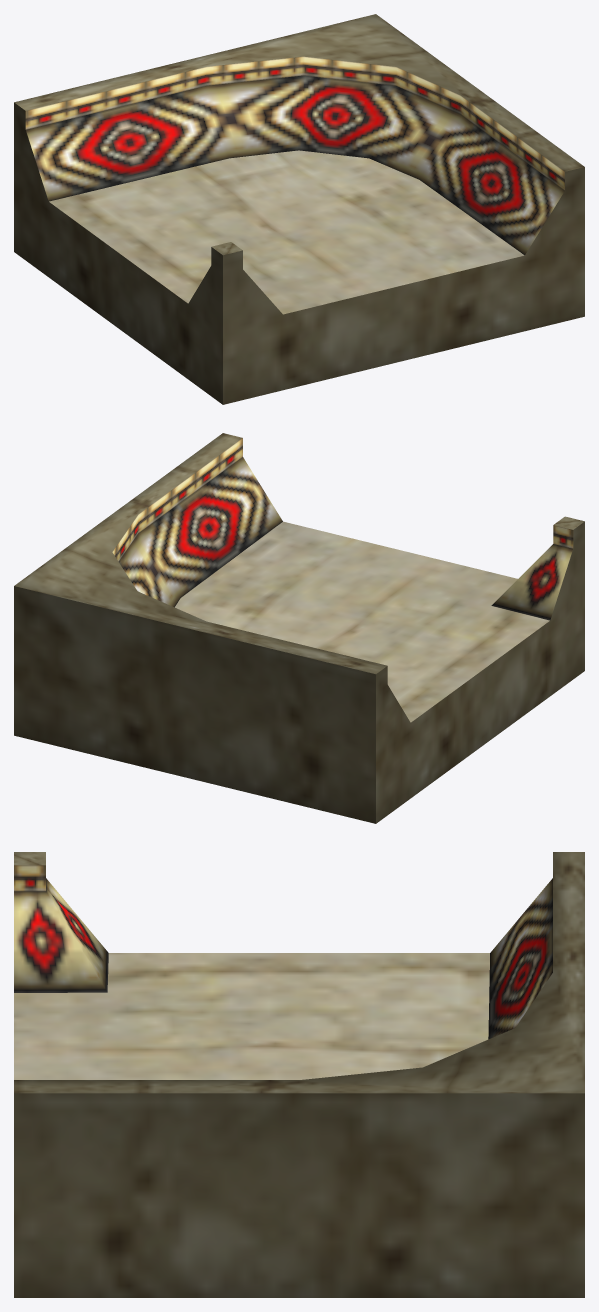
File: jun_tile_corner_static.obj
3 views of the same model, one above another, from view 1: azimuth 30°, elevation 25°; view 2: azimuth 150°, elevation 25°; view 3: azimuth 270°, elevation 25° (orthographic). The views are drawn at different scales.
Parts seen in each view (by area): view 1: tile_corner_static_new; view 2: tile_corner_static_new; view 3: tile_corner_static_new.
Part boxes in pixels (x1,y1,x2,y2): tile_corner_static_new: (14, 14, 584, 404); tile_corner_static_new: (14, 433, 584, 823); tile_corner_static_new: (14, 852, 584, 1297).
Bounding box in the file's own units: 1 × 0.395 × 1.
Materials: 1 (1 with a texture image).
